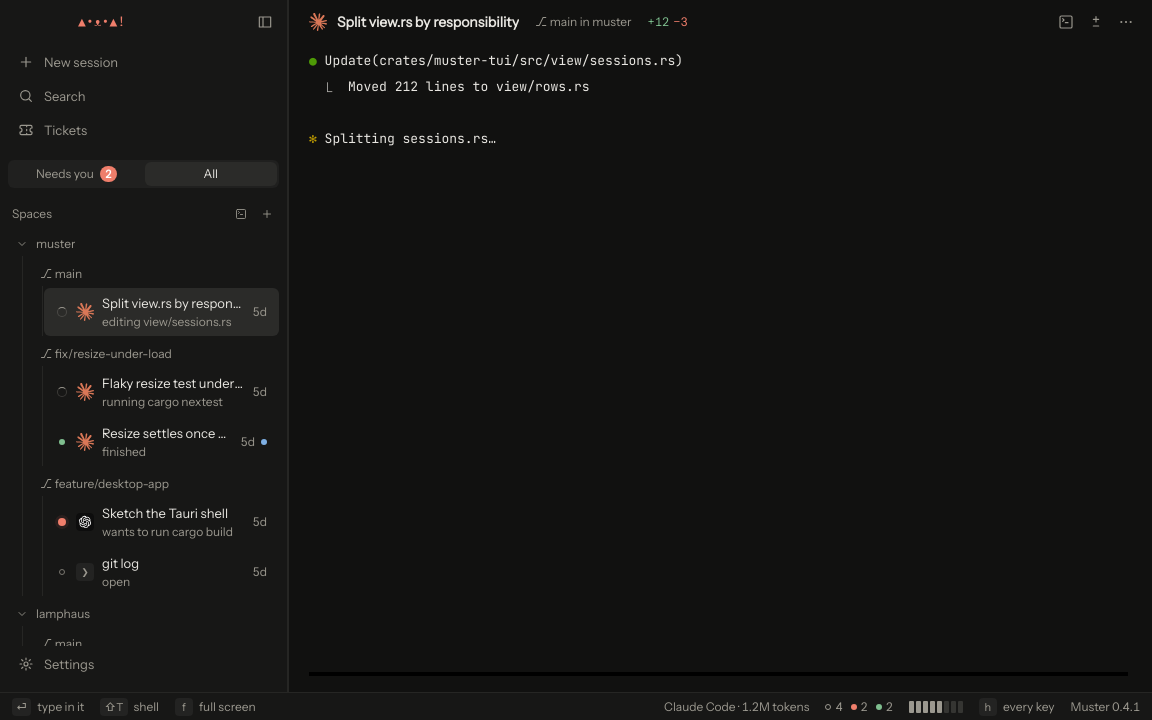
Test case: the window › puts the sidebar away on the person's fold_list key as on ⌘\, and the head brings it back
Expected: the list item with aria-label "Sketch the Tauri shell," is shown, [44,498,279,546]
Type keys "{Control>}\\{/Control}"
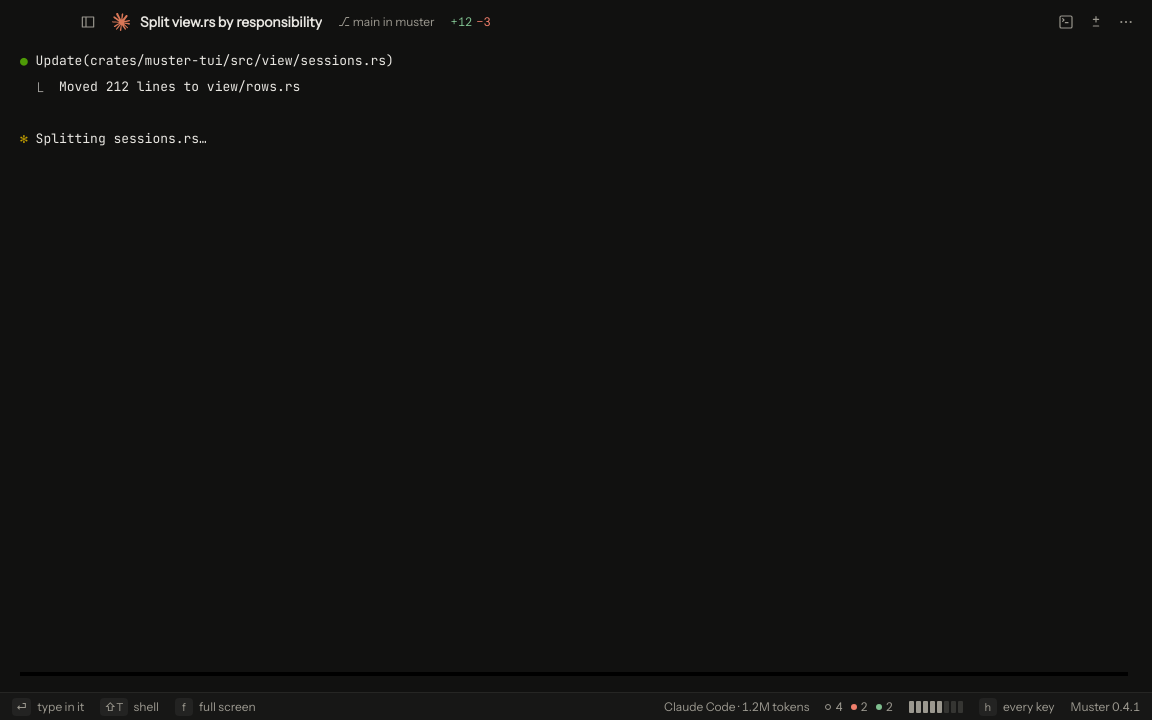
Type keys "{Control>}\\{/Control}"
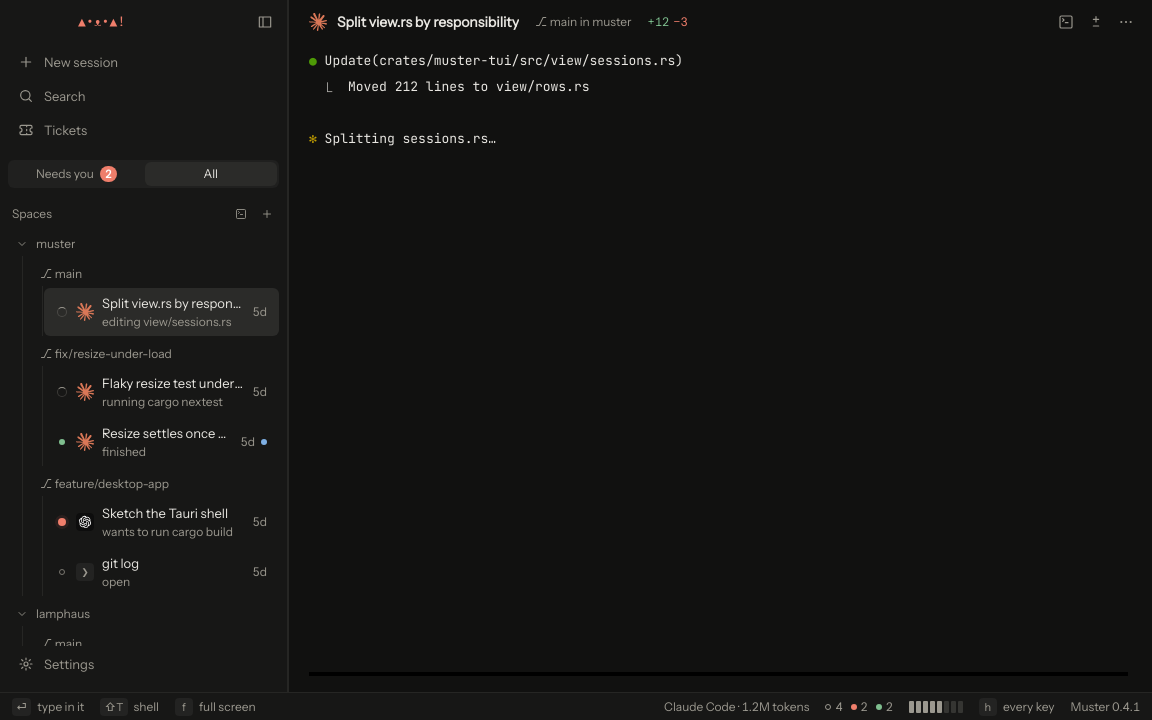
Expected: the navigation bar named "Sessions" is shown, [0,0,288,692]
Type keys "{Meta>}\\{/Meta}"
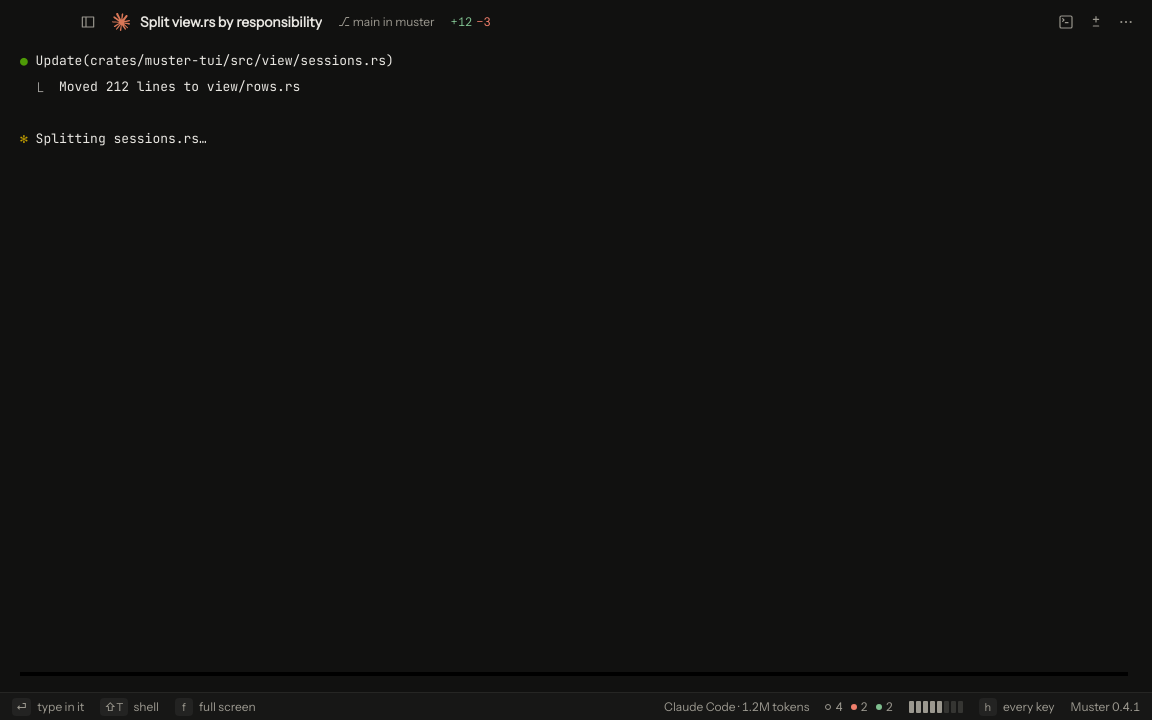
Click the button named "Show the sidebar". click: x=88, y=22
box: [74,8,102,36]
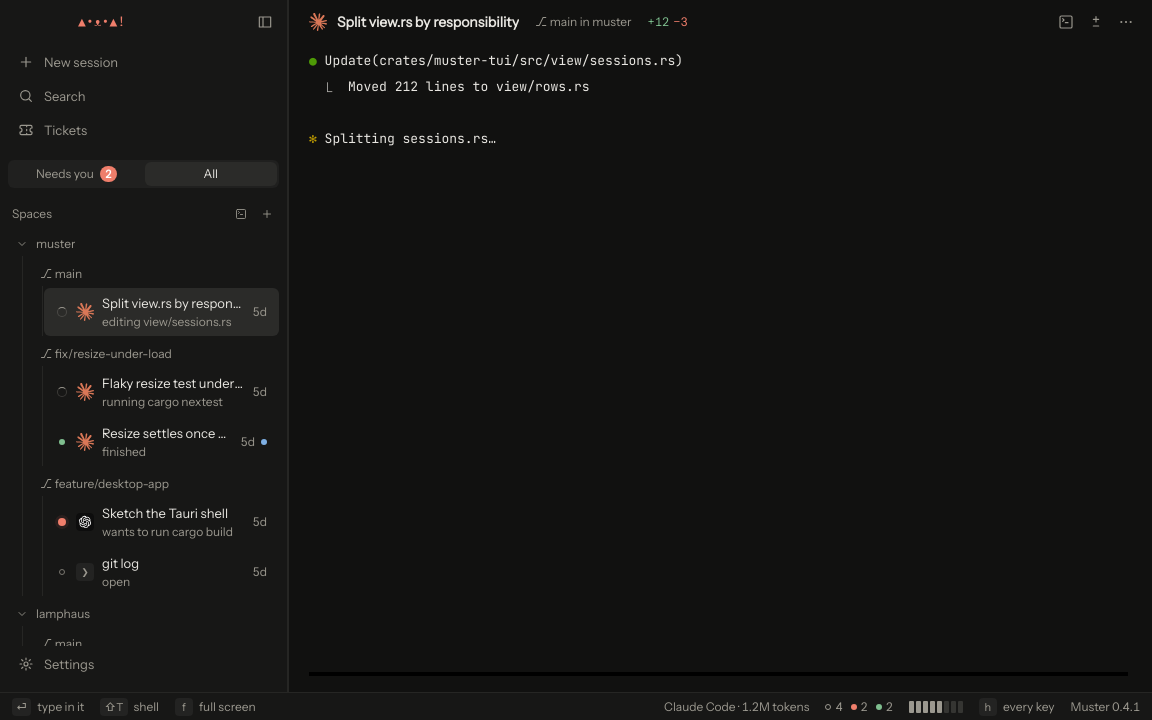
Expected: the navigation bar named "Sessions" is shown, [0,0,288,692]
